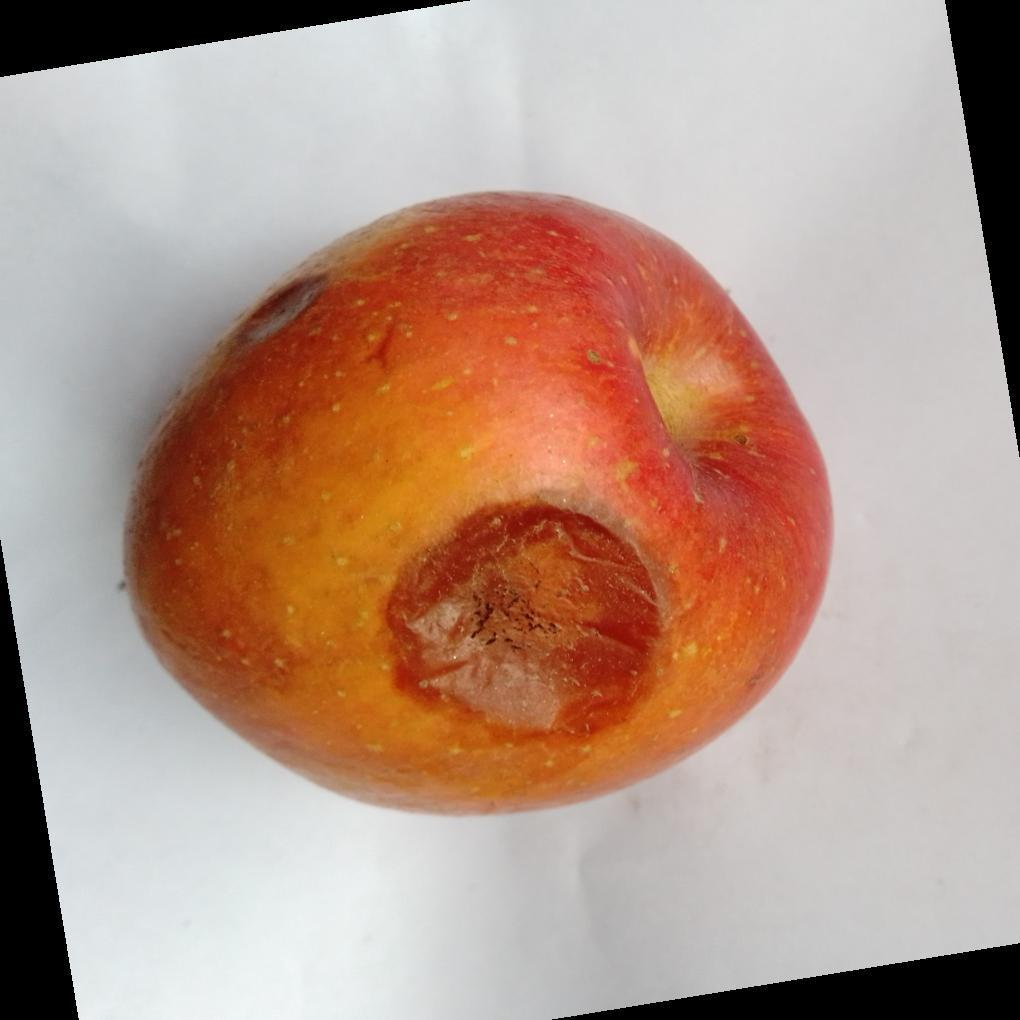FreshOrange: (122, 192, 835, 821)
